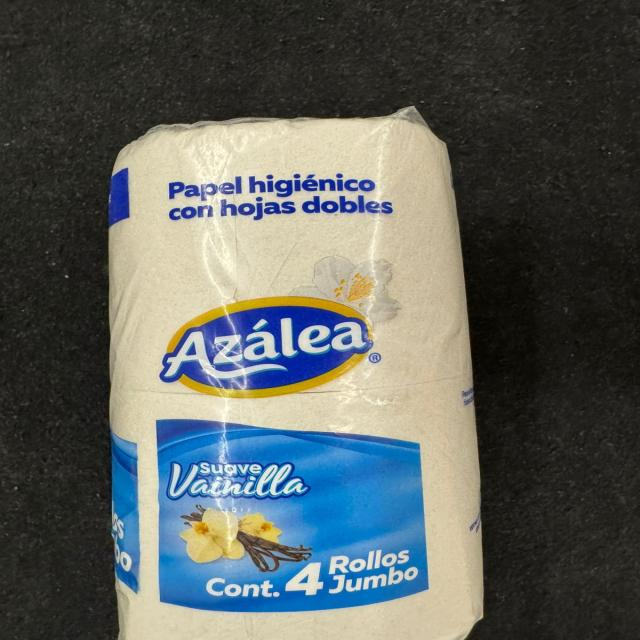PAPEL HIGIENICO AZALEA 4S CON AROMA: (104, 106, 501, 640)
